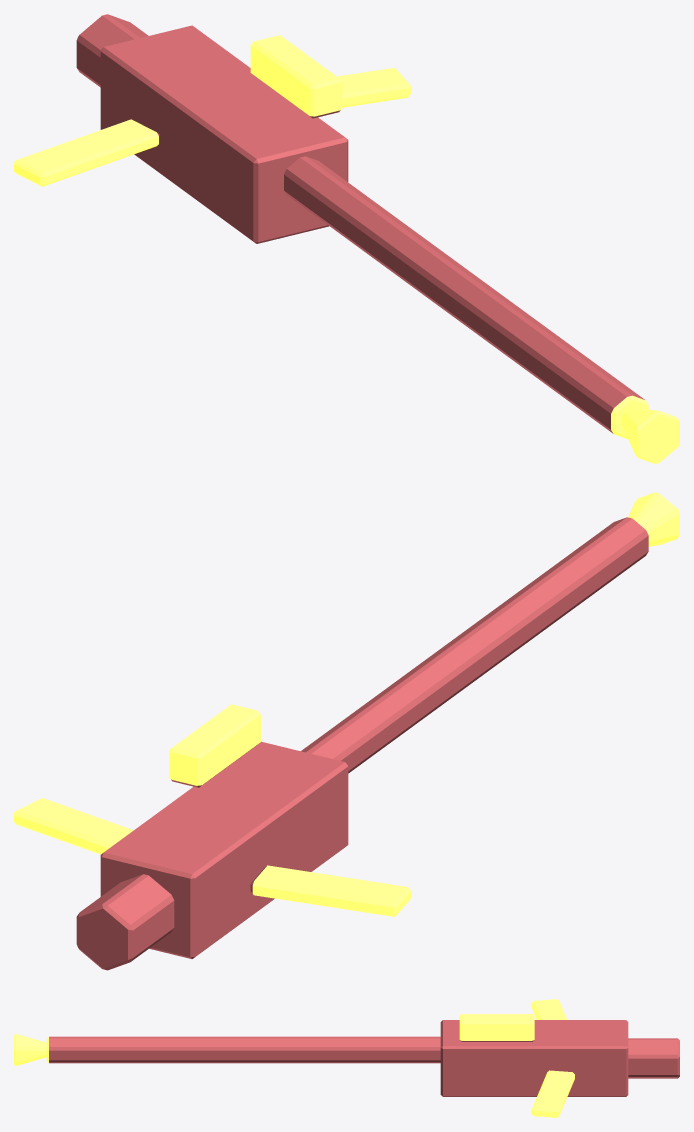
Rendered from Enemy_Sniper.fbx.
3 renders of one model, top to bottom at view 1: azimuth 30°, elevation 25°; view 2: azimuth 150°, elevation 25°; view 3: azimuth 270°, elevation 25°, orthographic. The views are drawn at different scales.
Visible parts, largest first — view 1: Enemy_Sniper; view 2: Enemy_Sniper; view 3: Enemy_Sniper.
Boxes of the visible parts, x1=… form: Enemy_Sniper: x1=14, y1=14, x2=679, y2=463; Enemy_Sniper: x1=14, y1=492, x2=679, y2=970; Enemy_Sniper: x1=14, y1=999, x2=679, y2=1117.
Size of the model in its own units: 1.41 by 0.46 by 3.55.
